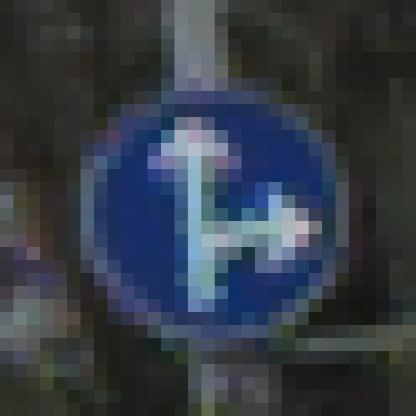Straight or Right: (81, 66, 350, 352)
